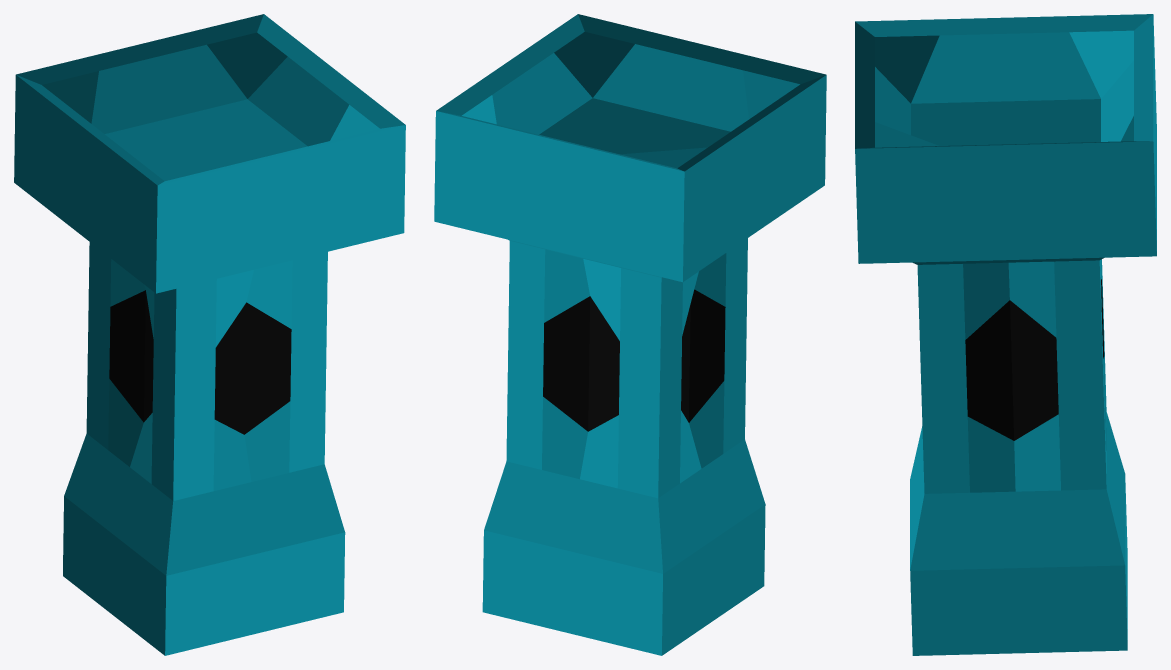
The model's file is wallTower2d.obj.
3 views of the same model, side by side, from view 1: azimuth 30°, elevation 25°; view 2: azimuth 150°, elevation 25°; view 3: azimuth 270°, elevation 25° (orthographic). The views are drawn at different scales.
Visible parts, largest first — view 1: Cube; view 2: Cube; view 3: Cube.
Part boxes in pixels (x1,y1,x2,y2): Cube: [14, 14, 405, 655]; Cube: [434, 14, 826, 655]; Cube: [855, 14, 1156, 655].
Size of the model in its own units: 0.8336 by 1.62 by 0.835.
